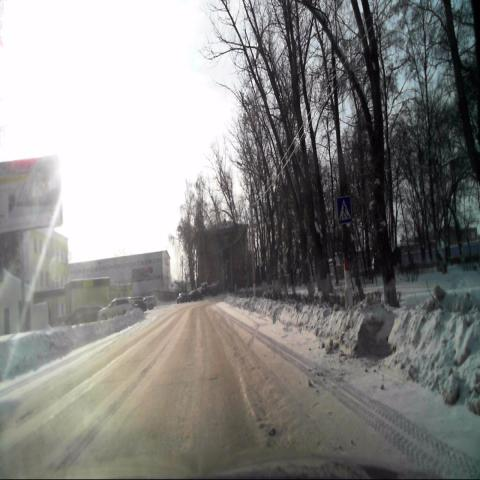5_19_1: (336, 195, 352, 224)
